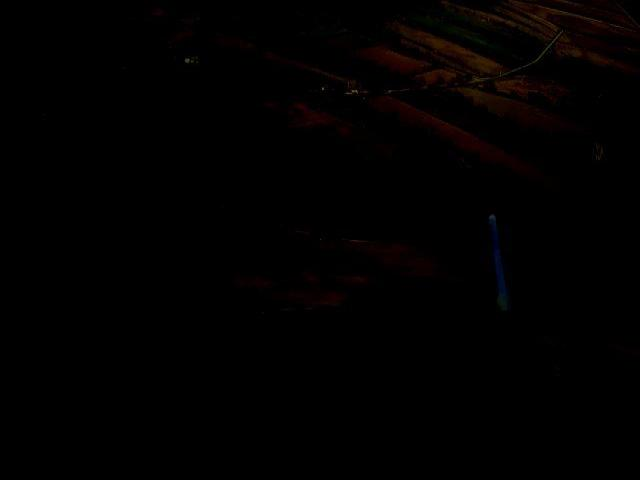iha: (300, 229, 342, 241)
